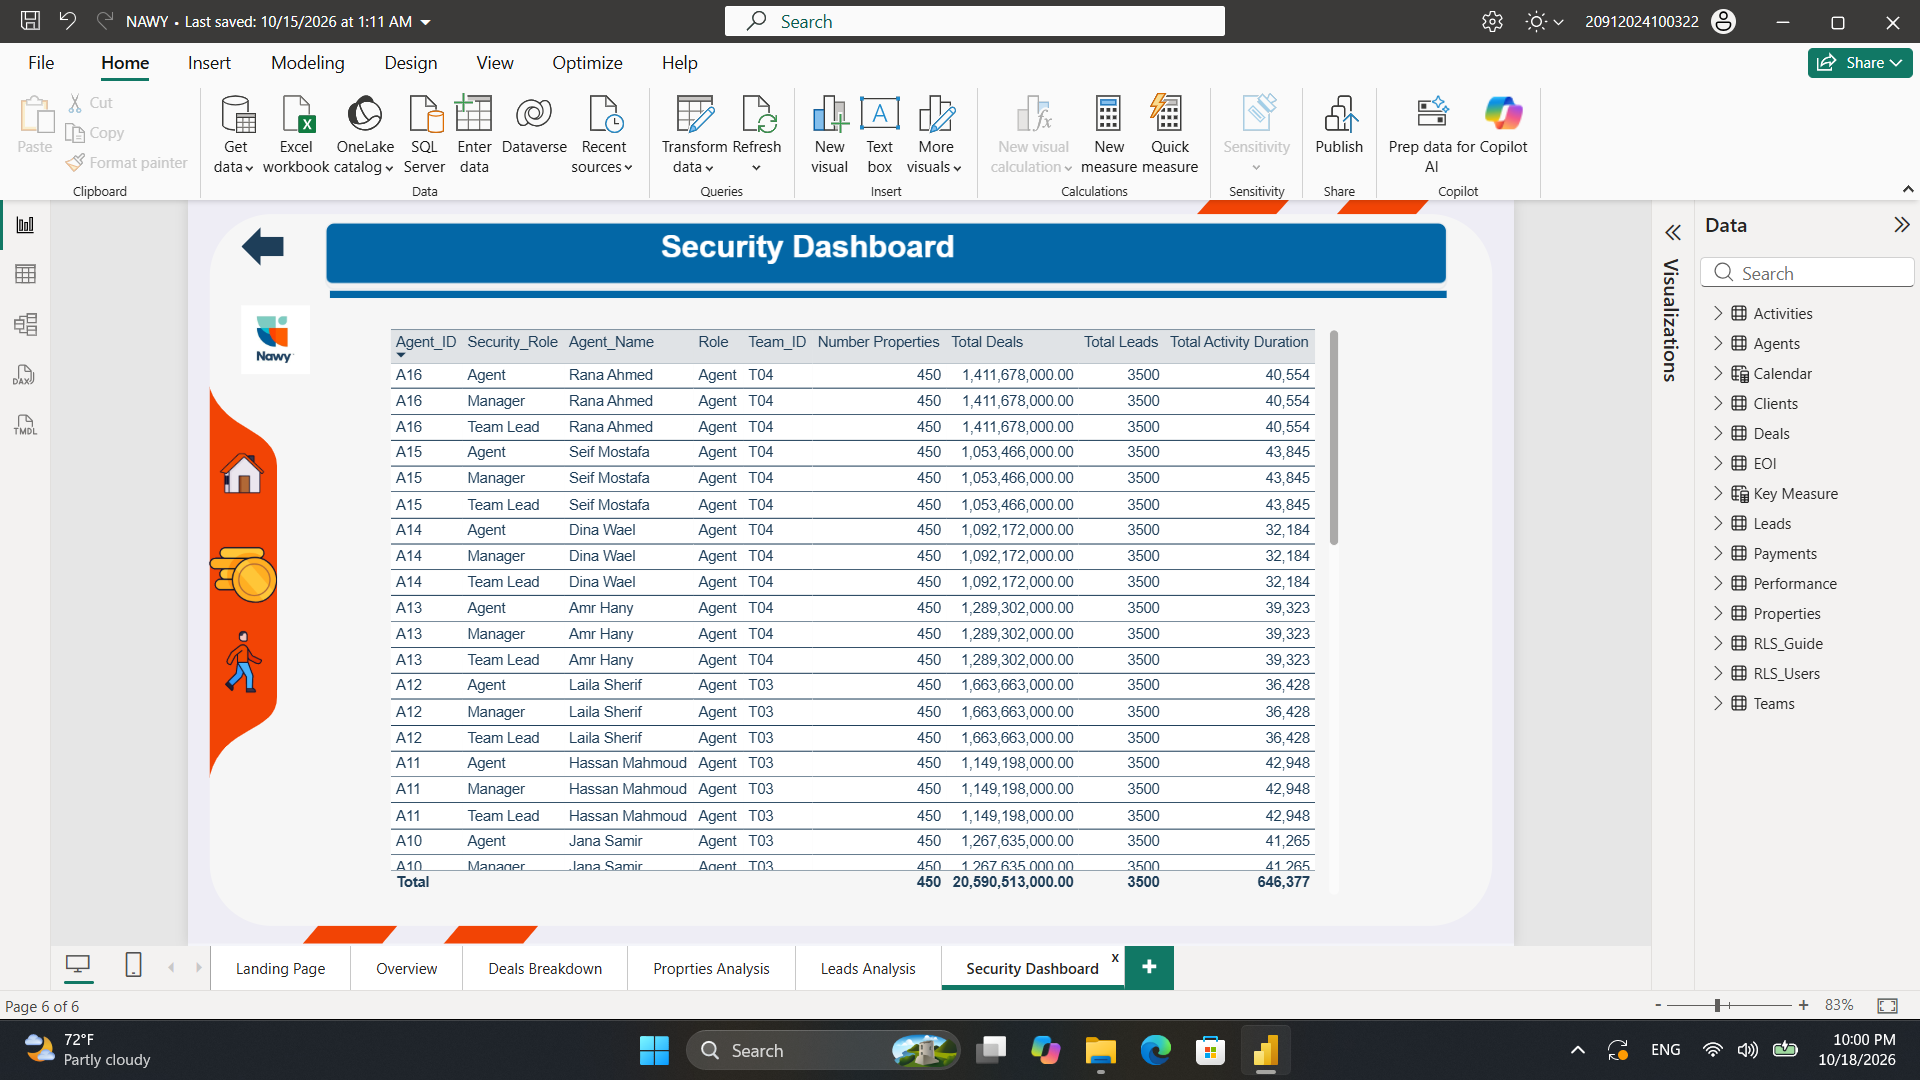

Layout of this report page (visuals, bound fields, positions):
{"tool":"powerbi","page":{"name":"Security Dashboard  ","canvas":[1280,720],"ordinal":5},"visuals":[{"type":"tableEx","fields":{"Values":["Agents.Agent_ID","RLS_Users.Security_Role","Agents.Agent_Name","Agents.Role","Agents.Team_ID","Key Measure.Number Properties","Key Measure.Total Deals","Key Measure.Total Leads","Key Measure.Total Activity Duration"]},"box":[179.8,109.8,945.8,575.5],"z":0},{"type":"image","box":[36.2,78.4,96.5,112.2],"z":1000},{"type":"htmlContent443BE3AD55E043BF878BED274D3A6855","fields":{"content":["Activities.HTML Navbar"]},"box":[132.7,29,1082.2,49.5],"z":2000},{"type":"htmlContent443BE3AD55E043BF878BED274D3A6855","fields":{"content":["Key Measure.Security"]},"box":[132.7,21.7,1082.2,65.1],"z":2001},{"type":"shape","box":[36.2,10.9,71.2,67.6],"z":2002},{"type":"image","box":[9.7,223.2,84.5,80.8],"z":2003},{"type":"image","box":[0,276.3,107.4,167.7],"z":2004},{"type":"image","box":[0,396.9,107.4,97.7],"z":2005}]}

Visuals, with their boxes on the page's 1280x720 design canvas (x1, y1, x2, y2). These are canvas units, not pixel positions in the 1920x1080 screenshot, which may show the page scaled, cropped or inside an application window:
tableEx - Agents.Agent_ID x RLS_Users.Security_Role: crop(180, 110, 1126, 685)
image: crop(36, 78, 133, 191)
htmlContent443BE3AD55E043BF878BED274D3A6855 - Activities.HTML Navbar: crop(133, 29, 1215, 78)
htmlContent443BE3AD55E043BF878BED274D3A6855 - Key Measure.Security: crop(133, 22, 1215, 87)
shape: crop(36, 11, 107, 78)
image: crop(10, 223, 94, 304)
image: crop(0, 276, 107, 444)
image: crop(0, 397, 107, 495)
